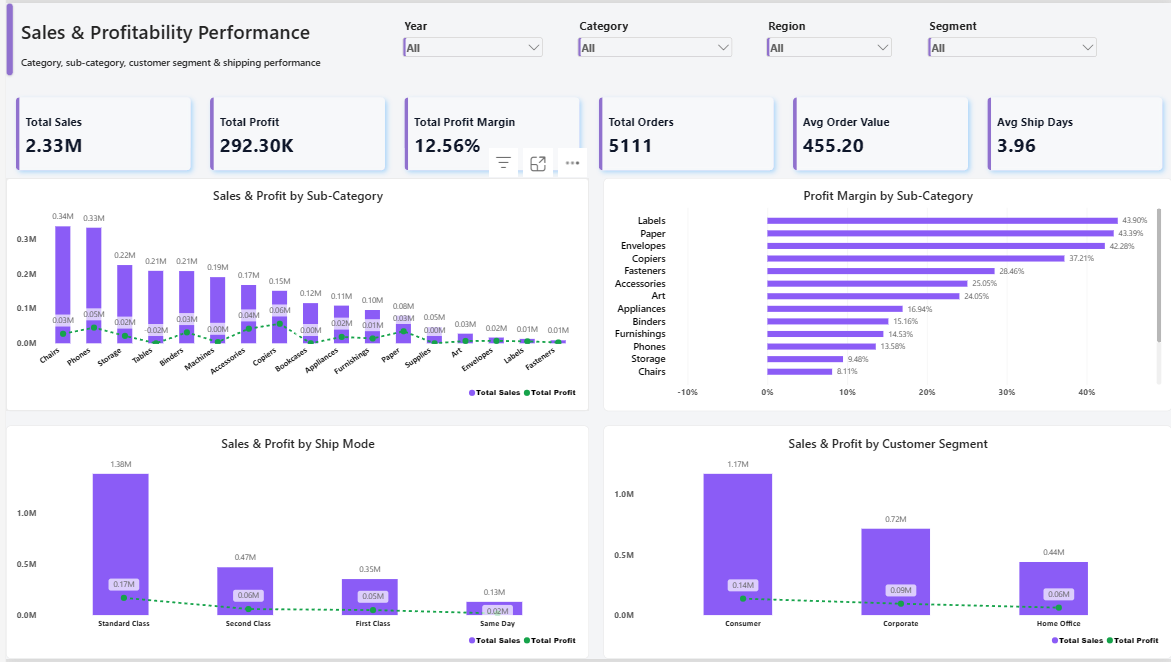

The dashboard page shown, as its layout file describes it:
{"tool":"powerbi","page":{"name":"Detailed Sales & Profitability","canvas":[1920,1080],"ordinal":1},"visuals":[{"type":"textbox","box":[24,24,504,96],"z":0},{"type":"textbox","box":[0,0,12,120],"z":1000},{"type":"slicer","fields":{"Values":["superstore_sales_clean.Order Date.Variation.Date Hierarchy.Year"]},"box":[648,24,240,72],"z":2000},{"type":"slicer","fields":{"Values":["superstore_sales_clean.Category"]},"box":[936,24,264,72],"z":3000},{"type":"slicer","fields":{"Values":["superstore_sales_clean.Region"]},"box":[1248,24,216,72],"z":4000},{"type":"slicer","fields":{"Values":["superstore_sales_clean.Segment"]},"box":[1512,24,288,72],"z":5000},{"type":"cardVisual","fields":{"Data":["superstore_sales_clean.Total Sales","superstore_sales_clean.Total Profit","superstore_sales_clean.Total Profit Margin","superstore_sales_clean.Total Orders","superstore_sales_clean.Average Order Value","superstore_sales_clean.Average Shipping Days"]},"box":[0,120,1920,192],"z":6000},{"type":"lineClusteredColumnComboChart","title":"Sales & Profit by Sub-Category","fields":{"Category":["superstore_sales_clean.Sub-Category"],"Y":["superstore_sales_clean.Total Sales"],"Y2":["superstore_sales_clean.Total Profit"]},"box":[0,288,960,384],"z":7000},{"type":"clusteredBarChart","title":"Profit Margin by Sub-Category","fields":{"Category":["superstore_sales_clean.Sub-Category"],"Y":["superstore_sales_clean.Total Profit Margin"]},"box":[984,288,936,384],"z":8000},{"type":"lineClusteredColumnComboChart","title":"Sales & Profit by Ship Mode","fields":{"Category":["superstore_sales_clean.Ship Mode"],"Y":["superstore_sales_clean.Total Sales"],"Y2":["superstore_sales_clean.Total Profit"]},"box":[0,696,960,384],"z":9000},{"type":"lineClusteredColumnComboChart","title":"Sales & Profit by Customer Segment","fields":{"Category":["superstore_sales_clean.Segment"],"Y":["superstore_sales_clean.Total Sales"],"Y2":["superstore_sales_clean.Total Profit"]},"box":[984,696,936,384],"z":10000}]}

Visuals, with their boxes in screenshot pixels (x1, y1, x2, y2), scaled from the page's 1920x1080 canvas onto the 1171x662 screenshot:
textbox: x1=15 y1=15 x2=322 y2=74
textbox: x1=0 y1=0 x2=7 y2=74
slicer - superstore_sales_clean.Order Date.Variation.Date Hierarchy.Year: x1=395 y1=15 x2=542 y2=59
slicer - superstore_sales_clean.Category: x1=571 y1=15 x2=732 y2=59
slicer - superstore_sales_clean.Region: x1=761 y1=15 x2=893 y2=59
slicer - superstore_sales_clean.Segment: x1=922 y1=15 x2=1098 y2=59
cardVisual - superstore_sales_clean.Total Sales x superstore_sales_clean.Total Profit: x1=0 y1=74 x2=1170 y2=191
"Sales & Profit by Sub-Category" lineClusteredColumnComboChart: x1=0 y1=177 x2=586 y2=412
"Profit Margin by Sub-Category" clusteredBarChart: x1=600 y1=177 x2=1170 y2=412
"Sales & Profit by Ship Mode" lineClusteredColumnComboChart: x1=0 y1=427 x2=586 y2=661
"Sales & Profit by Customer Segment" lineClusteredColumnComboChart: x1=600 y1=427 x2=1170 y2=661
